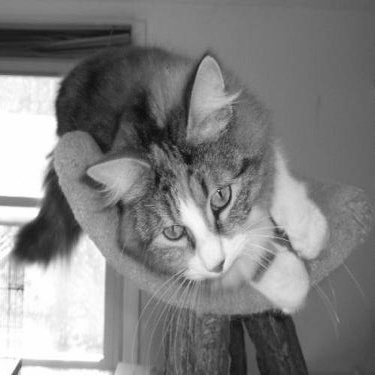cat: (12, 47, 332, 317)
